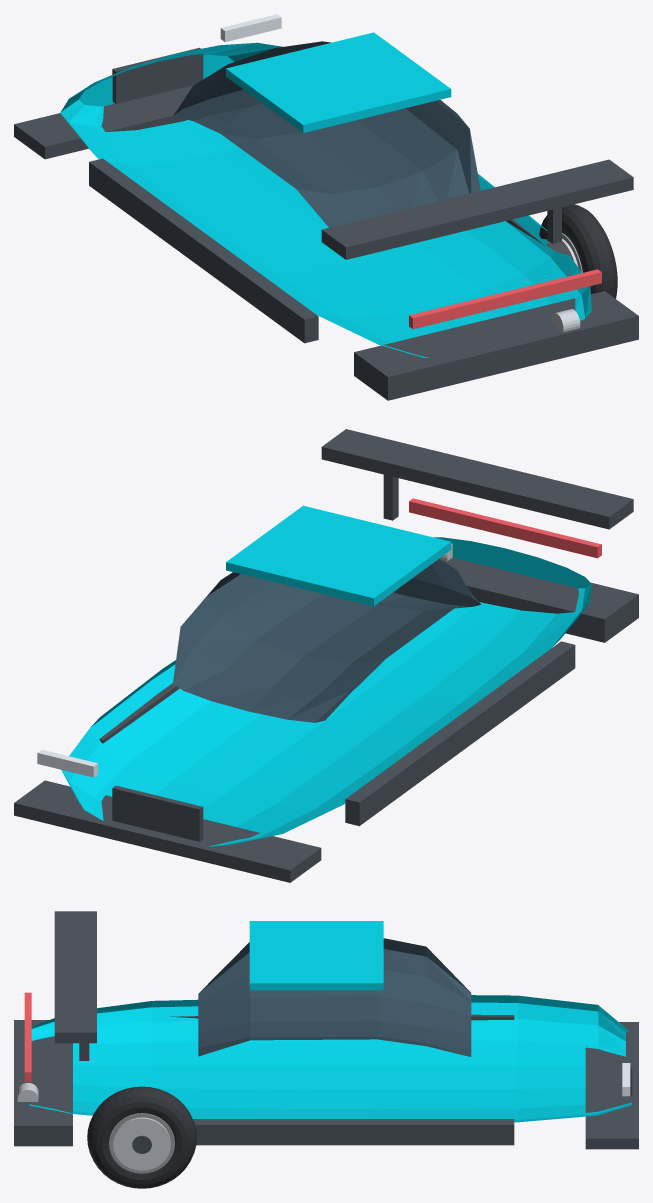
File: street_gt.glb
The picture shows the model from 3 angles, top to bottom: view 1: azimuth 30°, elevation 25°; view 2: azimuth 150°, elevation 25°; view 3: azimuth 270°, elevation 25°; orthographic projection. The views are drawn at different scales.
Parts seen in each view (by area): view 1: Sculpted_unibody, Panoramic_glass_canopy, Rear_diffuser, Painted_roof_panel, Adjustable_aero_wing, Left_side_skirt, Carbon_front_splitter, Front_mesh_grille, Full_width_rear_LED, Performance_tyre, Front_LED_headlight; view 2: Sculpted_unibody, Panoramic_glass_canopy, Painted_roof_panel, Adjustable_aero_wing, Carbon_front_splitter, Left_side_skirt, Rear_diffuser, Front_mesh_grille, Full_width_rear_LED, Front_LED_headlight, Right_side_skirt, Wing_support; view 3: Sculpted_unibody, Panoramic_glass_canopy, Painted_roof_panel, Right_side_skirt, Rear_diffuser, Performance_tyre, Adjustable_aero_wing, Carbon_front_splitter, Forged_alloy_hub, Ventilated_brake_disc, Full_width_rear_LED.
Part boxes in pixels (left/top/right/bottom): Sculpted_unibody: left=60, top=42, right=591, bottom=357; Panoramic_glass_canopy: left=173, top=41, right=480, bottom=227; Rear_diffuser: left=354, top=291, right=638, bottom=400; Painted_roof_panel: left=226, top=32, right=451, bottom=132; Adjustable_aero_wing: left=321, top=159, right=633, bottom=259; Left_side_skirt: left=89, top=158, right=318, bottom=343; Carbon_front_splitter: left=14, top=85, right=193, bottom=159; Front_mesh_grille: left=112, top=47, right=203, bottom=103; Full_width_rear_LED: left=409, top=269, right=601, bottom=329; Performance_tyre: left=539, top=204, right=617, bottom=298; Front_LED_headlight: left=220, top=14, right=281, bottom=42; Sculpted_unibody: left=61, top=537, right=591, bottom=846; Panoramic_glass_canopy: left=173, top=559, right=480, bottom=722; Painted_roof_panel: left=226, top=505, right=451, bottom=606; Adjustable_aero_wing: left=321, top=429, right=633, bottom=529; Carbon_front_splitter: left=14, top=780, right=321, bottom=882; Left_side_skirt: left=345, top=641, right=575, bottom=826; Rear_diffuser: left=441, top=557, right=638, bottom=642; Front_mesh_grille: left=112, top=785, right=203, bottom=841; Full_width_rear_LED: left=409, top=498, right=601, bottom=558; Front_LED_headlight: left=37, top=749, right=98, bottom=777; Right_side_skirt: left=99, top=683, right=179, bottom=743; Wing_support: left=383, top=474, right=398, bottom=520; Sculpted_unibody: left=29, top=995, right=631, bottom=1122; Panoramic_glass_canopy: left=198, top=938, right=471, bottom=1056; Painted_roof_panel: left=249, top=921, right=383, bottom=990; Right_side_skirt: left=193, top=1119, right=514, bottom=1145; Rear_diffuser: left=14, top=1020, right=72, bottom=1146; Performance_tyre: left=87, top=1086, right=196, bottom=1188; Adjustable_aero_wing: left=54, top=911, right=96, bottom=1043; Carbon_front_splitter: left=585, top=1022, right=638, bottom=1149; Forged_alloy_hub: left=113, top=1117, right=170, bottom=1170; Ventilated_brake_disc: left=109, top=1113, right=175, bottom=1173; Full_width_rear_LED: left=24, top=992, right=31, bottom=1081.
Size of the model in its own units: 2.12 by 1.39 by 4.44.
